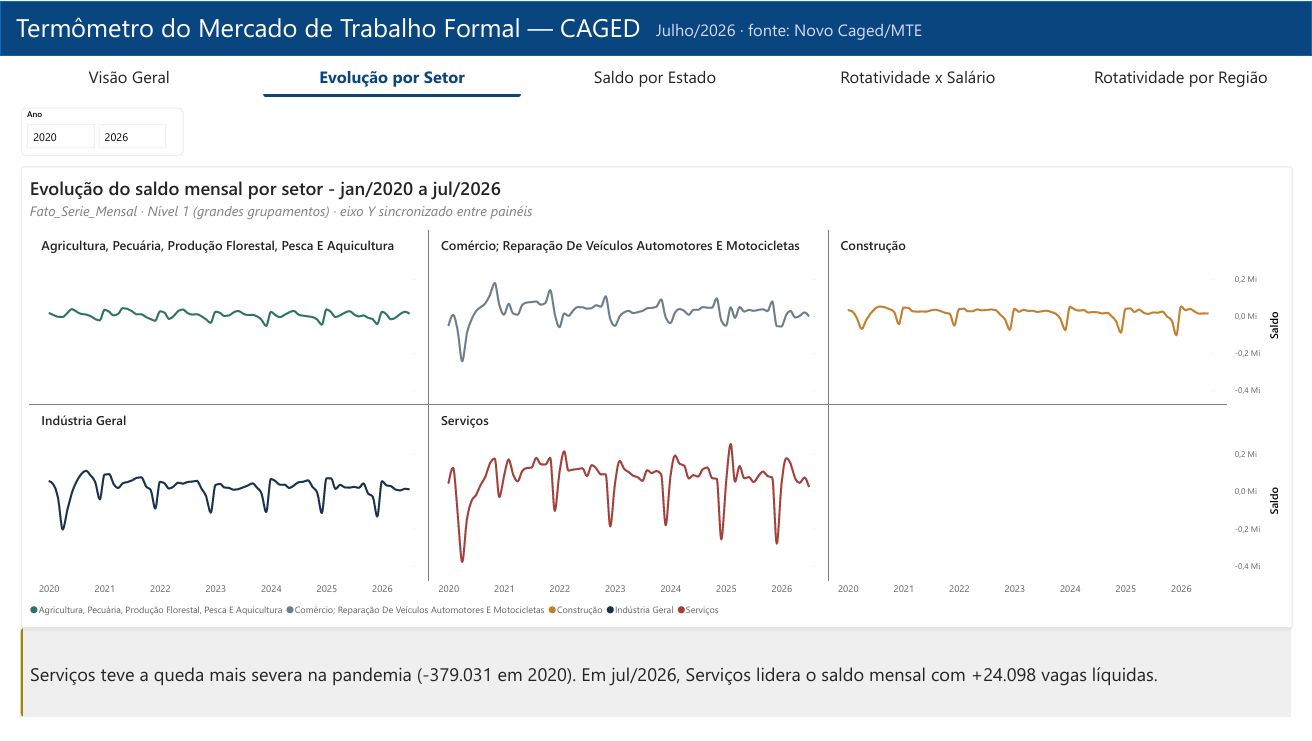

This screenshot's page, from the dashboard's own definition file:
{"tool":"powerbi","page":{"name":"Evolução por Setor","canvas":[1920,1080],"ordinal":1},"visuals":[{"type":"shape","box":[0,0,1920,80],"z":0,"group":"g1"},{"type":"group","id":"g1","title":"Grupo 1","box":[0,0,1920,80],"z":0,"group":"g2"},{"type":"group","id":"g2","title":"Grupo 2","box":[0,0,1920,140],"z":0},{"type":"textbox","box":[0,12,960,62],"z":1000,"group":"g1"},{"type":"pageNavigator","box":[0,80,1920,60],"z":1000,"group":"g2"},{"type":"slicer","title":"Saldo mensal nacional — Jan/2020 a Jul/2026","fields":{"Values":["Dim_Data.Ano"]},"box":[30,156,350,50],"z":1000},{"type":"textbox","box":[945,24,420,42],"z":2000,"group":"g1"},{"type":"slicer","title":"Saldo mensal nacional — Jan/2020 a Jul/2026","fields":{"Values":["Dim_Data.Ano"]},"box":[395,156,350,50],"z":2000},{"type":"lineChart","title":"Saldo mensal nacional — Jan/2020 a Jul/2026","fields":{"Y":["_Medida.Estoque"]},"box":[30,222,606,360],"z":3000},{"type":"textbox","box":[29.3,960,1860.9,90.5],"z":4000},{"type":"lineChart","title":"Saldo mensal nacional — Jan/2020 a Jul/2026","fields":{"Y":["_Medida.Estoque"]},"box":[1284,222,606,360],"z":4001},{"type":"lineChart","title":"Saldo mensal nacional — Jan/2020 a Jul/2026","fields":{"Y":["_Medida.Estoque"]},"box":[658,222,606,359],"z":4002},{"type":"lineChart","title":"Saldo mensal nacional — Jan/2020 a Jul/2026","fields":{"Y":["_Medida.Estoque"]},"box":[658,600,606,359],"z":4003},{"type":"lineChart","title":"Saldo mensal nacional — Jan/2020 a Jul/2026","fields":{"Y":["_Medida.Estoque"]},"box":[1284,600,606,360],"z":4004},{"type":"lineChart","title":"Saldo mensal nacional — Jan/2020 a Jul/2026","fields":{"Y":["_Medida.Estoque"]},"box":[30,600,606,360],"z":4005}]}

Visuals, with their boxes in screenshot pixels (x1, y1, x2, y2), scaled from the page's 1920x1080 canvas onto the 1312x741 screenshot:
shape: x1=0 y1=0 x2=1311 y2=55
"Grupo 1" group: x1=0 y1=0 x2=1311 y2=55
"Grupo 2" group: x1=0 y1=0 x2=1311 y2=96
textbox: x1=0 y1=8 x2=656 y2=51
pageNavigator: x1=0 y1=55 x2=1311 y2=96
"Saldo mensal nacional — Jan/2020 a Jul/2026" slicer: x1=20 y1=107 x2=260 y2=141
textbox: x1=646 y1=16 x2=933 y2=45
"Saldo mensal nacional — Jan/2020 a Jul/2026" slicer: x1=270 y1=107 x2=509 y2=141
"Saldo mensal nacional — Jan/2020 a Jul/2026" lineChart: x1=20 y1=152 x2=435 y2=399
textbox: x1=20 y1=659 x2=1292 y2=721
"Saldo mensal nacional — Jan/2020 a Jul/2026" lineChart: x1=877 y1=152 x2=1292 y2=399
"Saldo mensal nacional — Jan/2020 a Jul/2026" lineChart: x1=450 y1=152 x2=864 y2=399
"Saldo mensal nacional — Jan/2020 a Jul/2026" lineChart: x1=450 y1=412 x2=864 y2=658
"Saldo mensal nacional — Jan/2020 a Jul/2026" lineChart: x1=877 y1=412 x2=1292 y2=659
"Saldo mensal nacional — Jan/2020 a Jul/2026" lineChart: x1=20 y1=412 x2=435 y2=659
